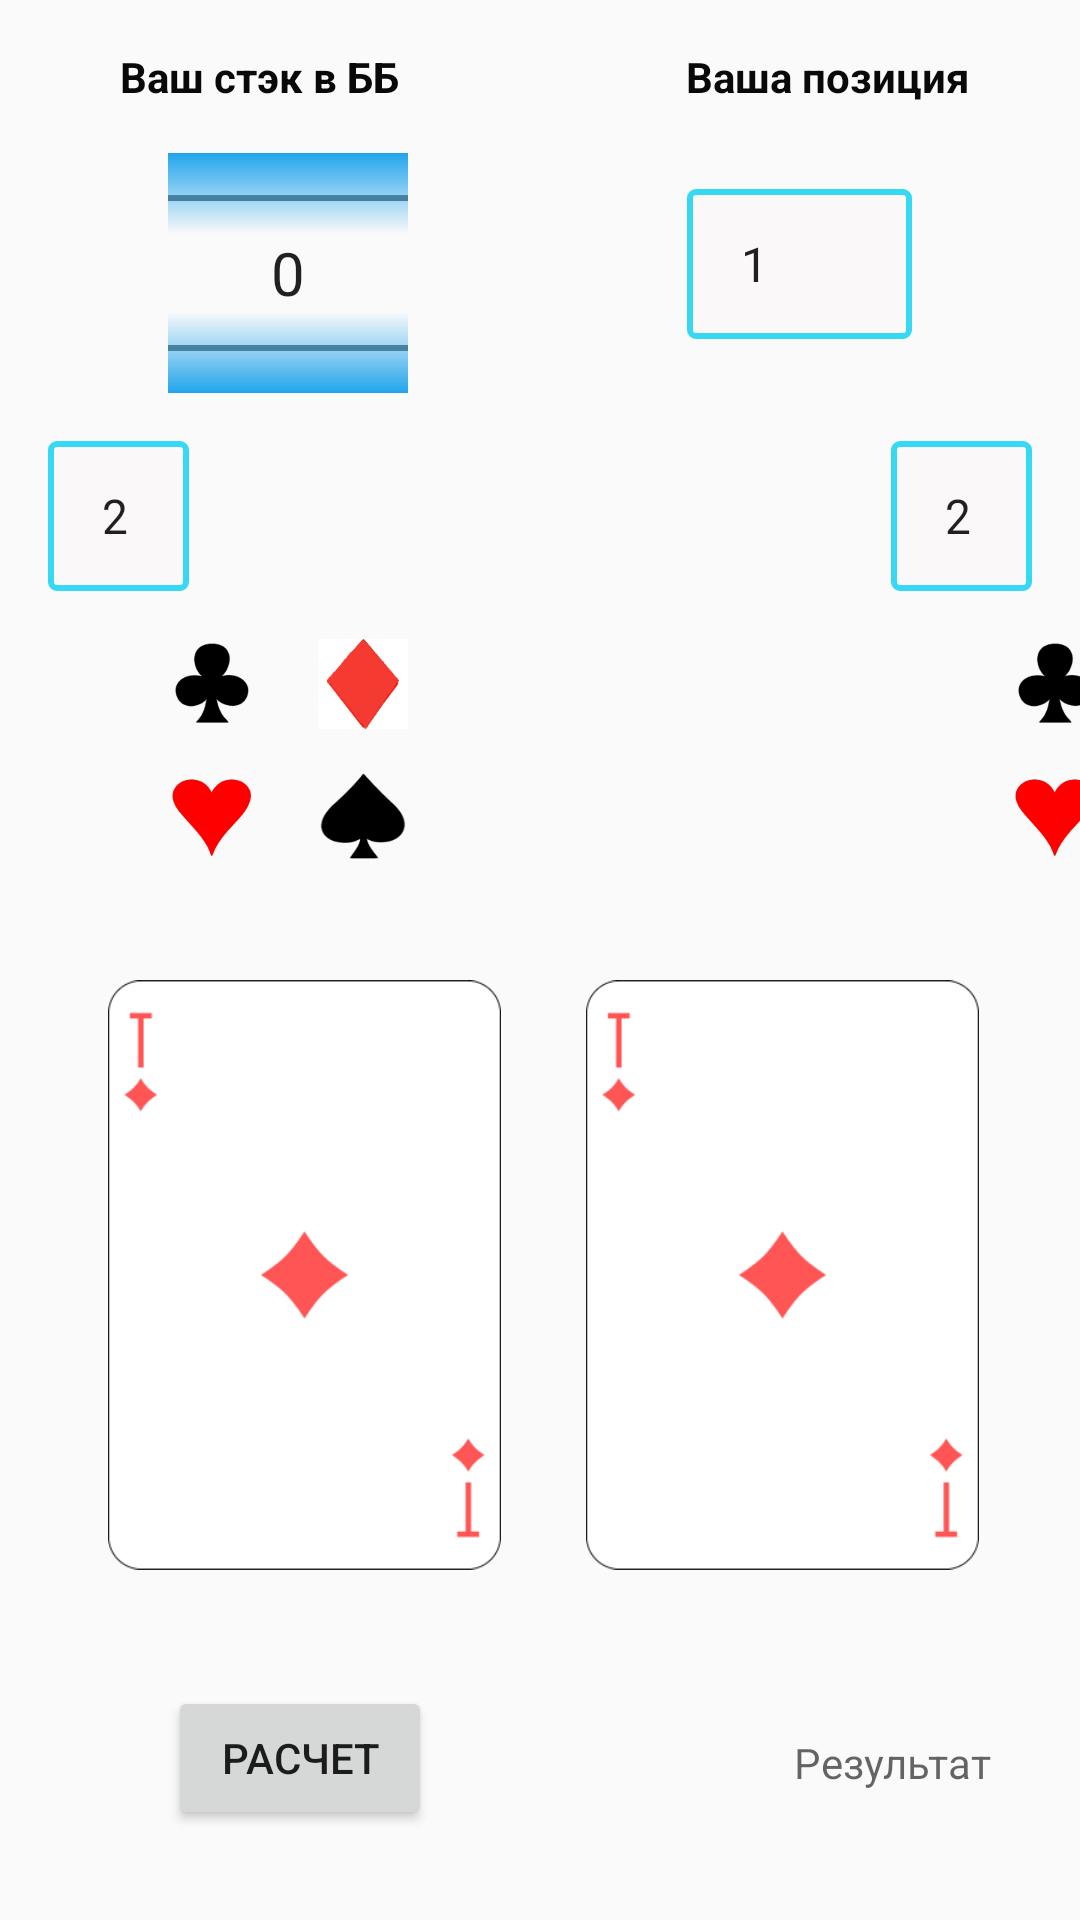

Icon click points for this 1080x1920 phone screenshot, format (x,y):
icon clubs: (212,683)
icon diamonds: (363,684)
icon hearts: (211,817)
icon splades: (362,816)
